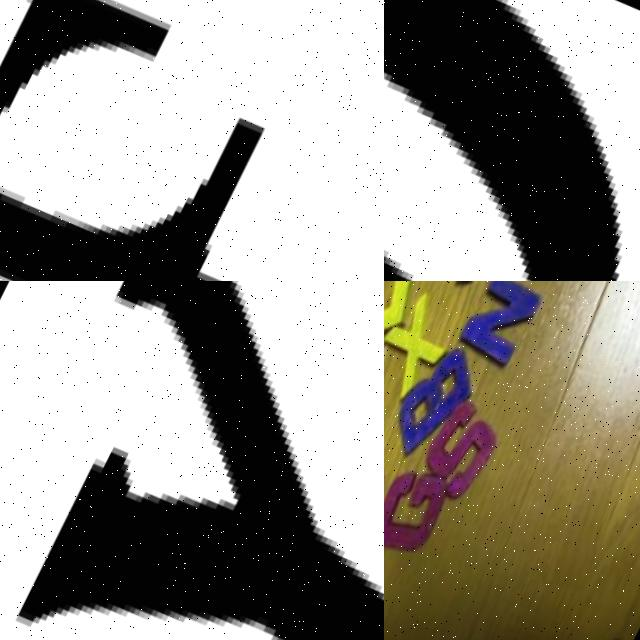B: (384, 337, 483, 472)
D: (384, 0, 640, 281)
F: (0, 0, 384, 281)
G: (384, 457, 460, 573)
L: (384, 281, 423, 363)
N: (450, 281, 541, 381)
S: (410, 395, 514, 515)
T: (443, 281, 542, 316)
X: (384, 298, 455, 401)
Y: (0, 281, 384, 640)
